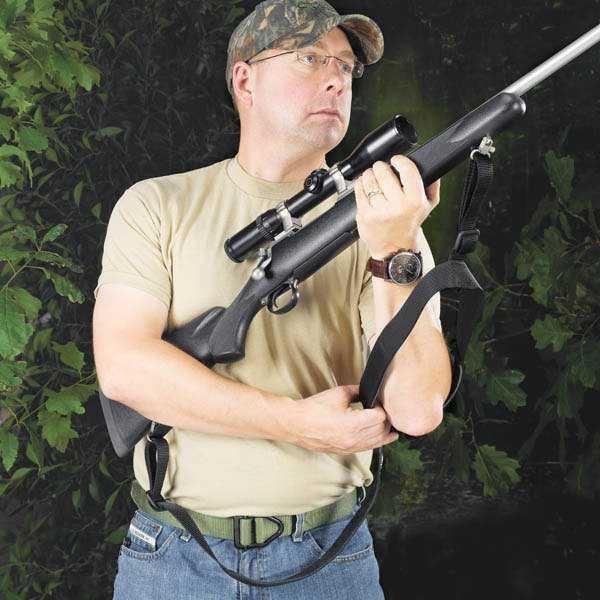heavyweapon: (94, 0, 600, 463)
